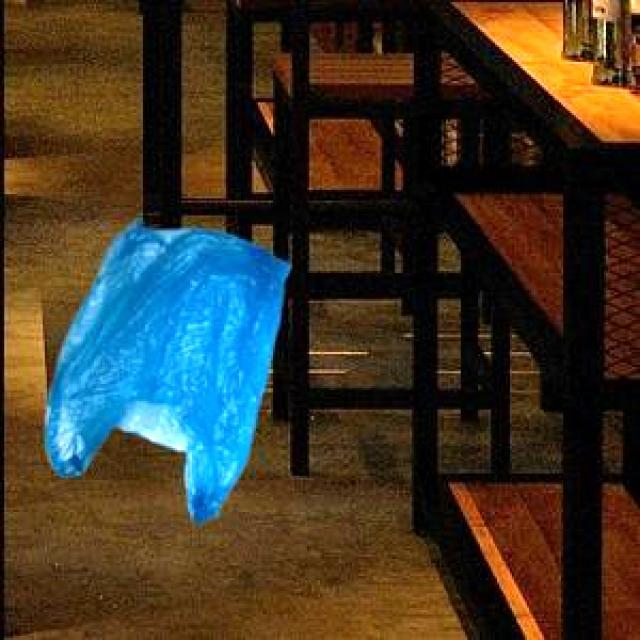Plastic_Bag: (44, 214, 287, 522)
